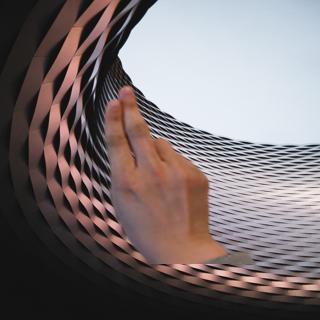DHAVE: (96, 84, 214, 255)
